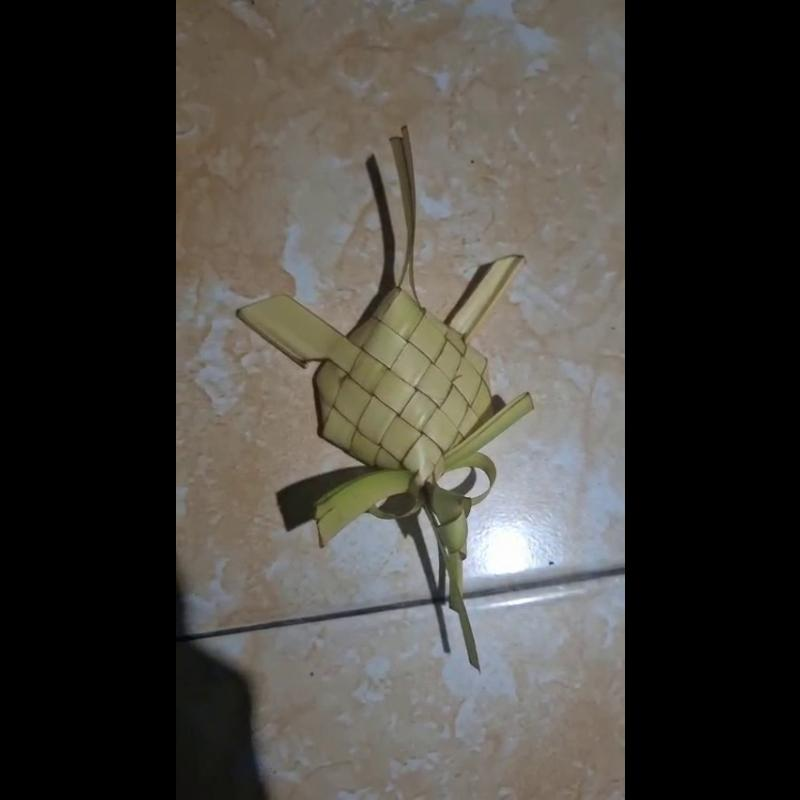Tipat Dampulan: (228, 121, 539, 692)
